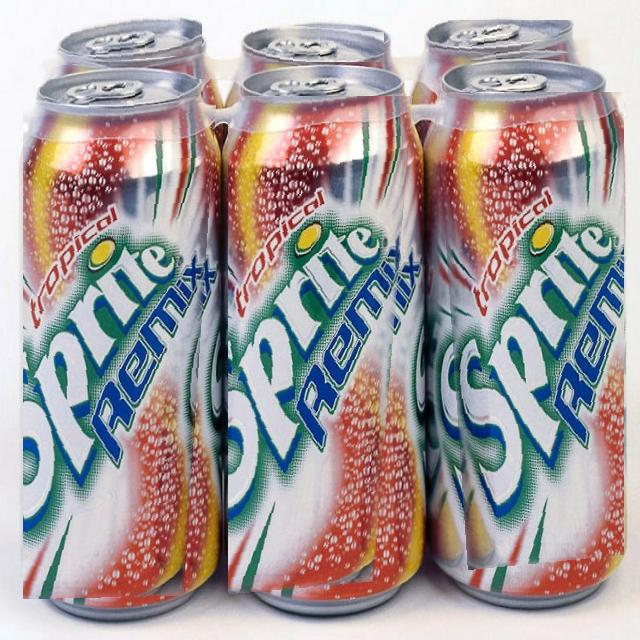Cans: (23, 79, 218, 600), (228, 96, 414, 598), (436, 92, 624, 570), (50, 13, 202, 66), (429, 20, 592, 64), (246, 22, 384, 62)
